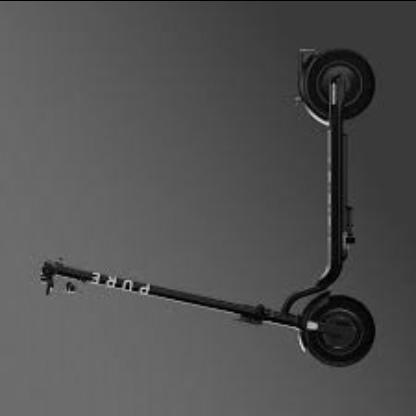bike: (40, 47, 378, 370)
